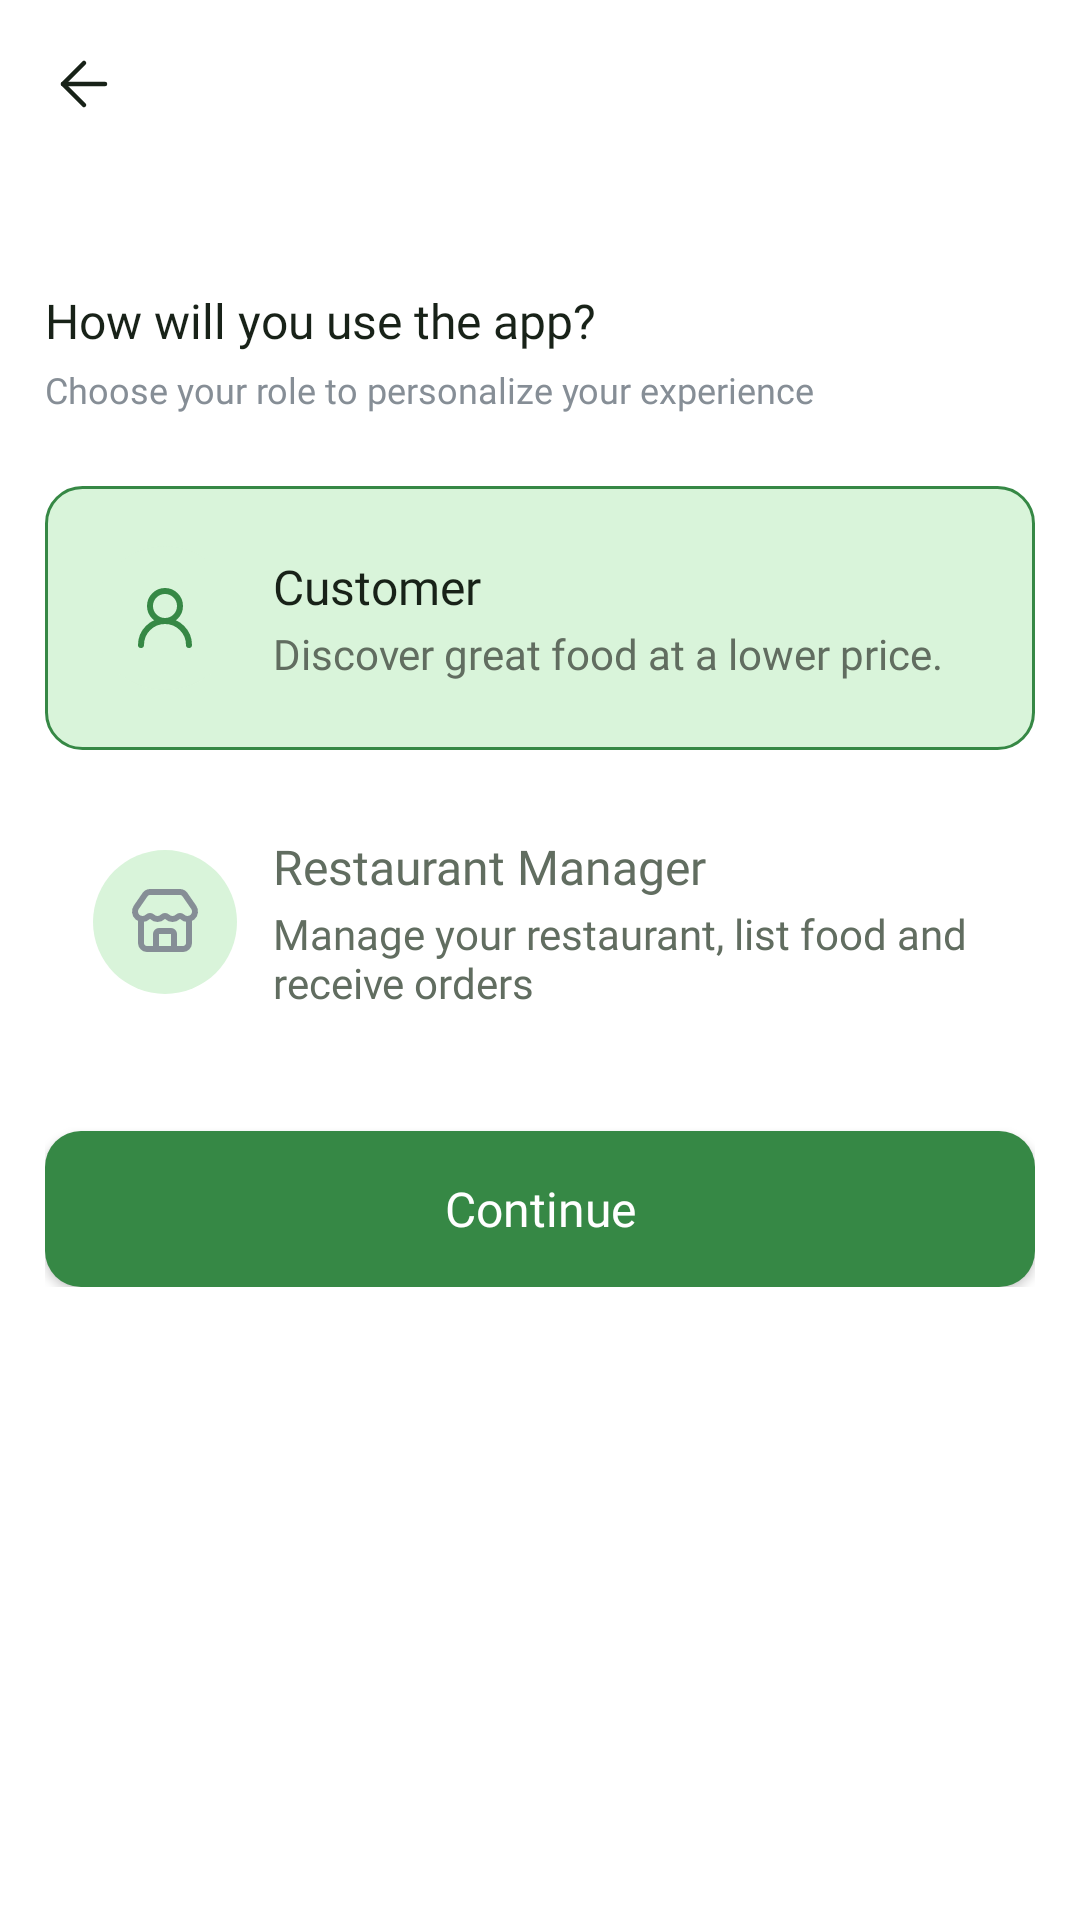

Icon click points for this 1080 × 1920 phone screenshot, format (x=x, y=y):
Back: (x=83, y=84)
